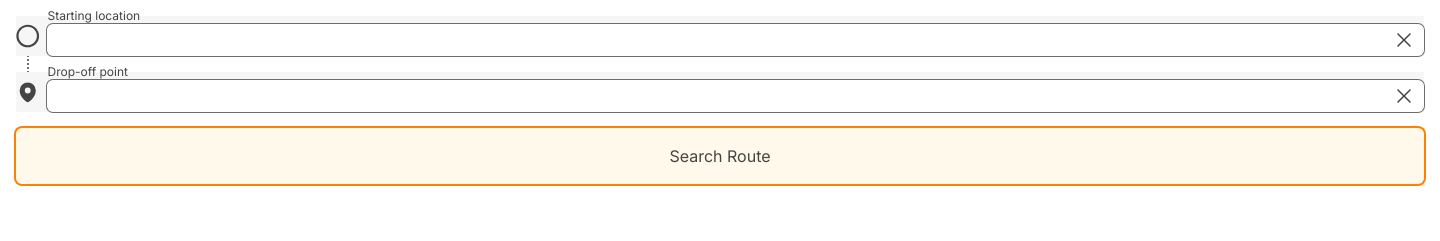
Test case: RouteCheckSide received failure route detail result
Type "Hong" into the dropdown labelled "Starting location".
click(736, 40); type("Hong")  # box [48, 24, 1424, 56]
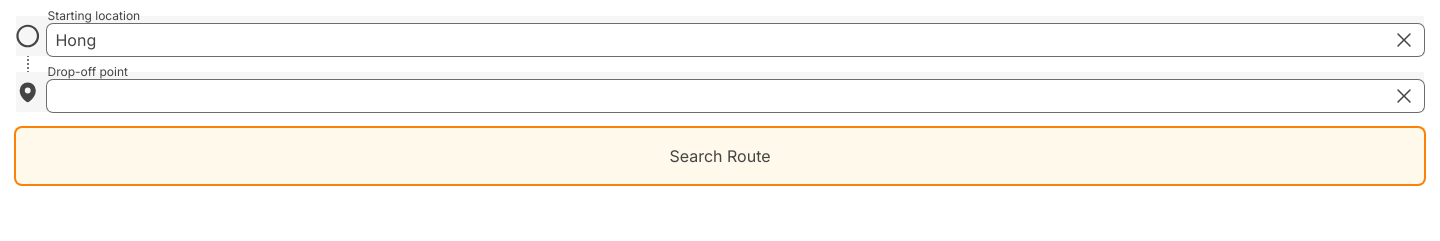
Type "Kong" into the dropdown labelled "Drop-off point".
click(736, 96); type("Kong")  # box [48, 80, 1424, 112]
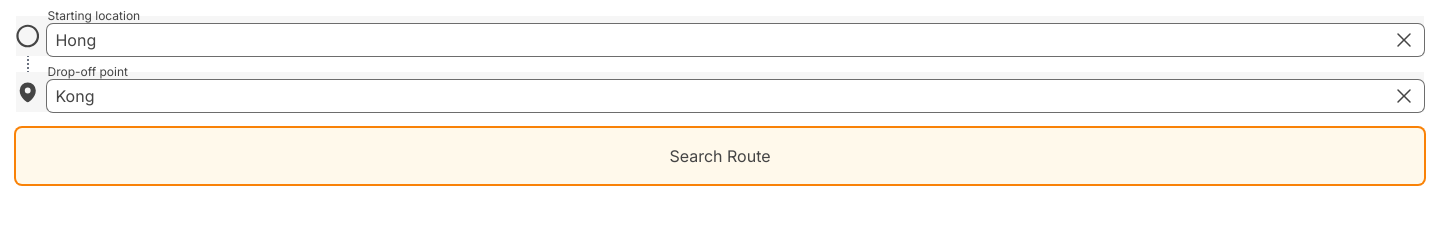
Click the button "Search Route".
click(720, 156)  # box [16, 128, 1424, 184]
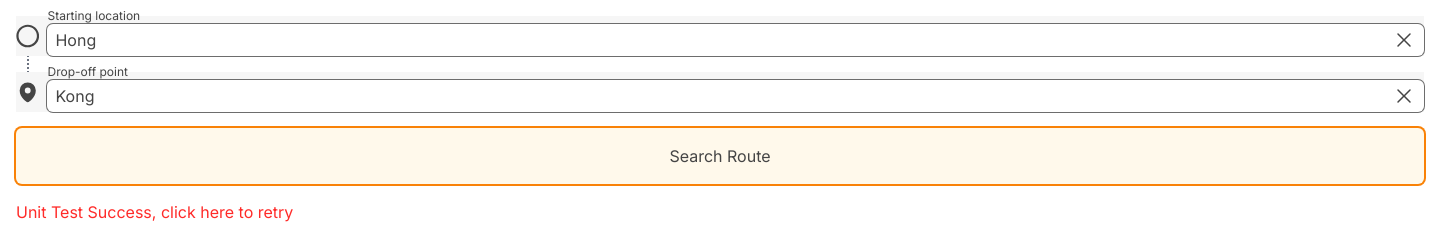
Expected: the message "Unit Test Success, click here to retry" is shown, [16, 200, 293, 224]
Expected: the message shows "Unit Test Success", [16, 202, 152, 222]
